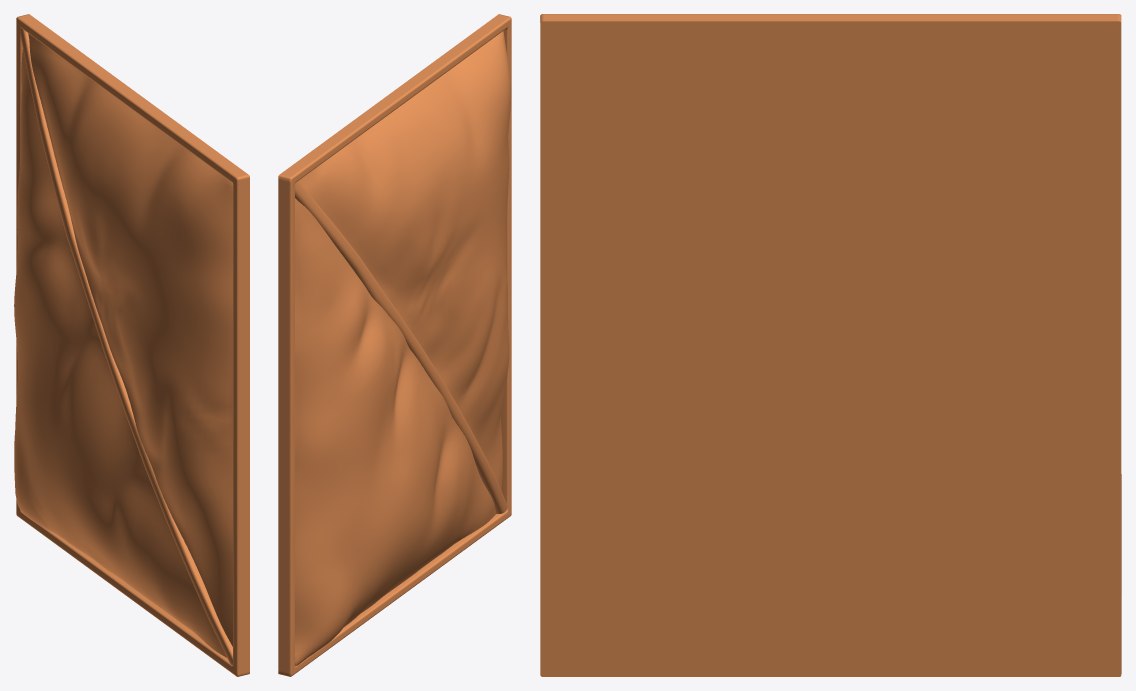
Rendered from WallPanel02.fbx.
3 renders of one model, left to right at view 1: azimuth 30°, elevation 25°; view 2: azimuth 150°, elevation 25°; view 3: azimuth 270°, elevation 25°, orthographic. The views are drawn at different scales.
Visible parts, largest first — view 1: SM_WallPanel02; view 2: SM_WallPanel02; view 3: SM_WallPanel02.
Boxes of the visible parts, x1=… form: SM_WallPanel02: x1=14, y1=14, x2=249, y2=676; SM_WallPanel02: x1=278, y1=14, x2=511, y2=676; SM_WallPanel02: x1=540, y1=14, x2=1121, y2=676.
Bounding box in the file's own units: 15.87 × 152 × 122.
